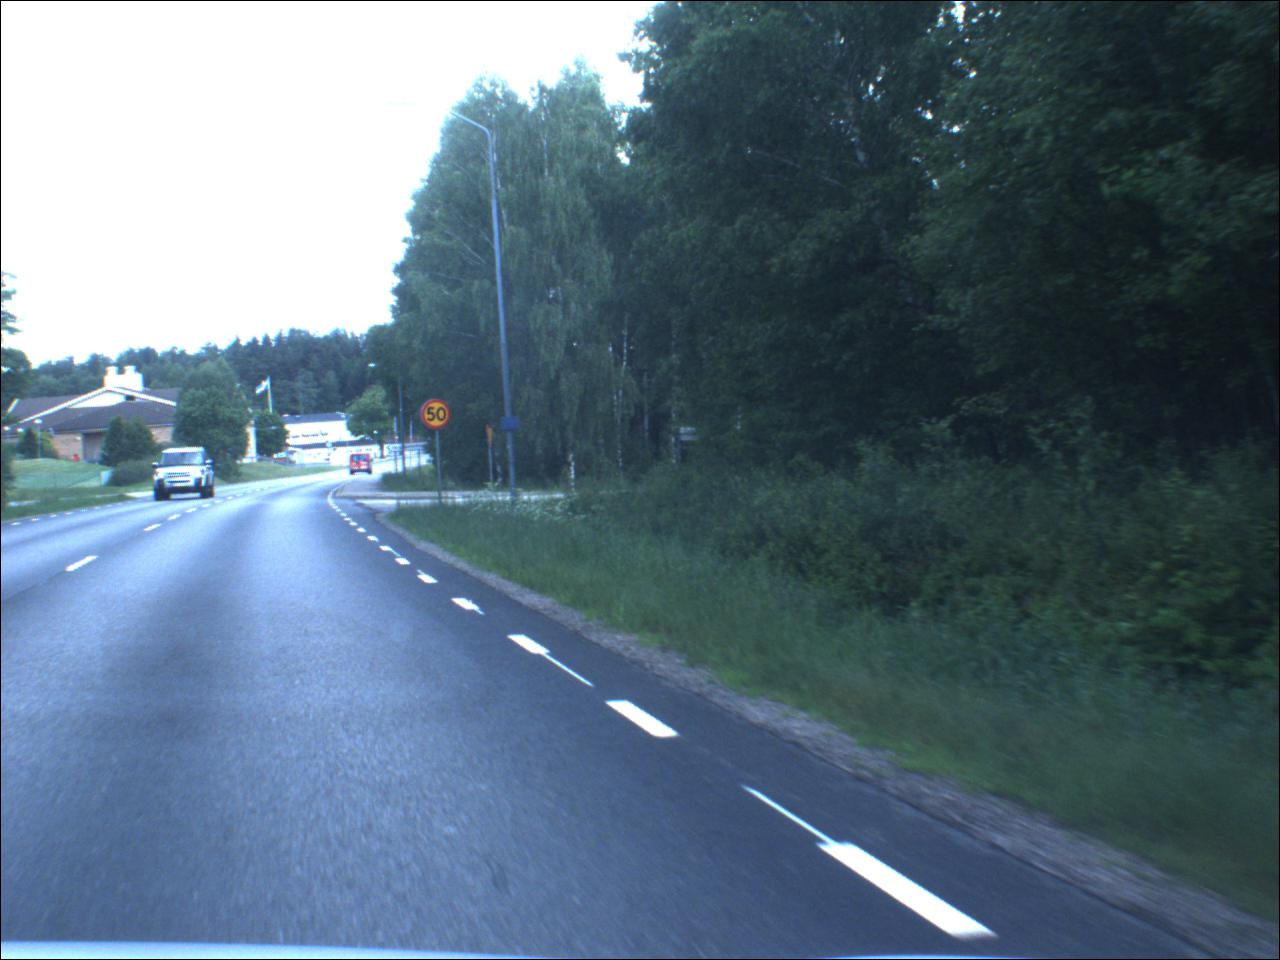50_SIGN: (423, 400, 454, 432)
GIVE_WAY: (487, 427, 497, 451)
